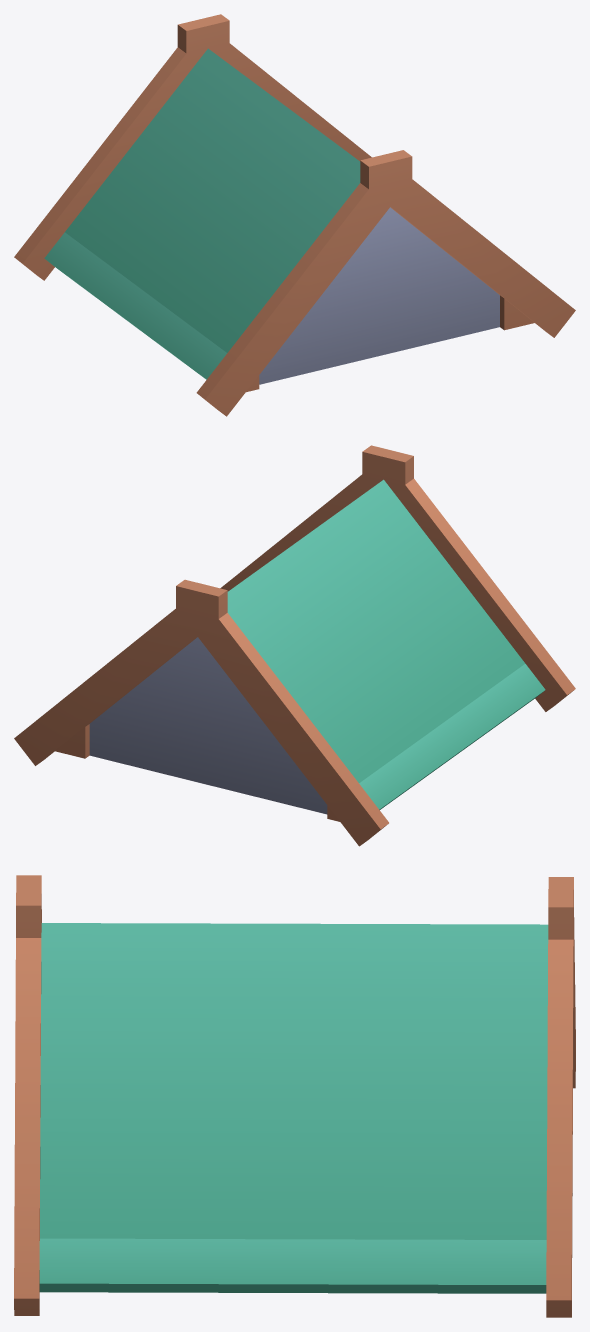
File: roof-gable-detail.004_lev1.glb
The picture shows the model from 3 angles, top to bottom: view 1: azimuth 30°, elevation 25°; view 2: azimuth 150°, elevation 25°; view 3: azimuth 270°, elevation 25°; orthographic projection. The views are drawn at different scales.
Parts seen in each view (by area): view 1: roof-gable-detail.004_lev1; view 2: roof-gable-detail.004_lev1; view 3: roof-gable-detail.004_lev1.
Part boxes in pixels (left/top/right/bottom): roof-gable-detail.004_lev1: left=14, top=14, right=575, bottom=416; roof-gable-detail.004_lev1: left=14, top=445, right=575, bottom=846; roof-gable-detail.004_lev1: left=14, top=875, right=575, bottom=1317.
Size of the model in its own units: 5.29 by 2.94 by 4.81.
1 material, 1 textured.
